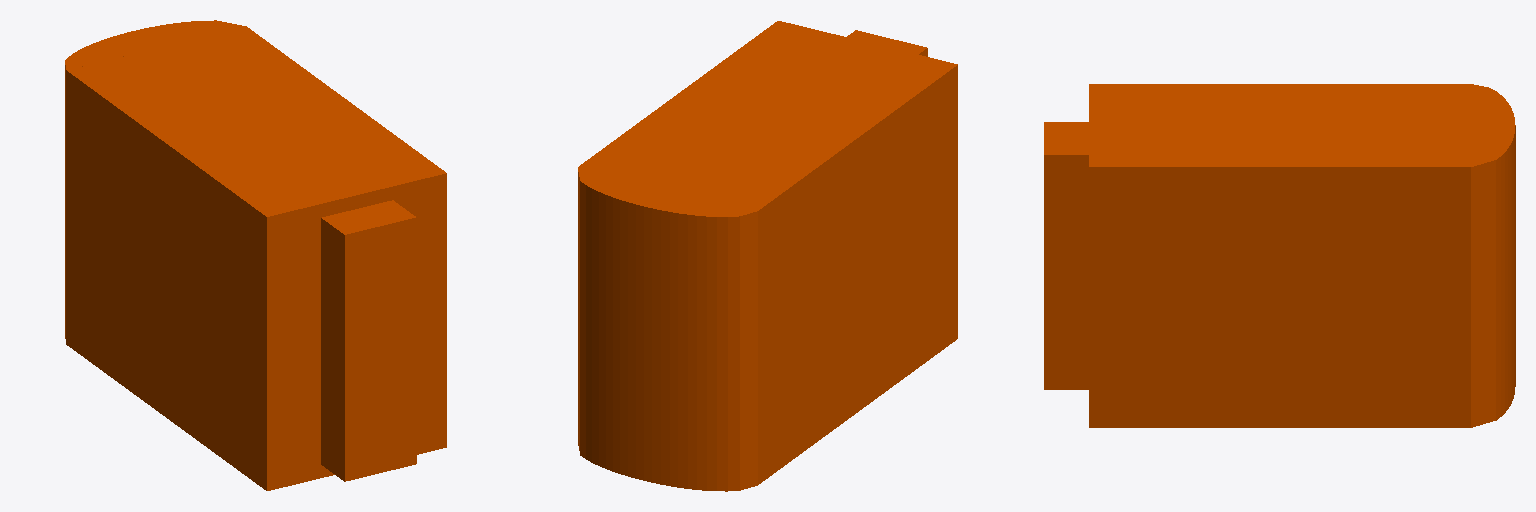
URDF robot description (3v3_45.0.27.5.27.5_42.5.32.5.25.0_1.0.975_53):
<?xml version="1.0" ?>
<robot name="3v3_45.0.27.5.27.5_42.5.32.5.25.0_1.0.975_53">

    <link name="palm">
        <visual>
            <origin rpy="0 0 0" xyz="0 0 0"/>
            <geometry>
                <mesh filename="obj_files/palm.obj" scale="1 1 1"/>
            </geometry>
        </visual>
        <collision>
            <geometry>
                <mesh filename="obj_files/palm_collision.obj" scale="1 1 1"/>
            </geometry>
        </collision>
    </link>

    <link name="finger0_segment0">
        <visual>
            <origin rpy="0 0 0" xyz="0 0 0"/>
            <geometry>
                <mesh filename="obj_files/finger0_segment0.obj" scale="1 1 1"/>
            </geometry>
        </visual>
        <collision>
            <geometry>
                <mesh filename="obj_files/finger0_segment0_collision.obj" scale="1 1 1"/>
            </geometry>
        </collision>
    </link>

    <joint name="finger0_segment0_joint" type="revolute">
        <parent link="palm"/>
        <child link="finger0_segment0"/>
        <origin rpy="0 0 0" xyz="0.0265 0 0.0"/>
        <axis xyz="0 0 1"/>
        <limit effort="1000.0" lower="-3.14" upper="3.14" velocity="0.5"/>
    </joint>

    <link name="finger0_segment1">
        <visual>
            <origin rpy="0 0 0" xyz="0 0 0"/>
            <geometry>
                <mesh filename="obj_files/finger0_segment1.obj" scale="1 1 1"/>
            </geometry>
        </visual>
        <collision>
            <geometry>
                <mesh filename="obj_files/finger0_segment1_collision.obj" scale="1 1 1"/>
            </geometry>
        </collision>
    </link>

    <joint name="finger0_segment1_joint" type="revolute">
        <parent link="finger0_segment0"/>
        <child link="finger0_segment1"/>
        <origin rpy="0 0 0" xyz="0 0.06397974683544302 0"/>
        <axis xyz="0 0 1"/>
        <limit effort="1000.0" lower="-3.14" upper="3.14" velocity="0.5"/>
    </joint>

    <link name="finger0_segment2">
        <visual>
            <origin rpy="0 0 0" xyz="0 0 0"/>
            <geometry>
                <mesh filename="obj_files/finger0_segment2.obj" scale="1 1 1"/>
            </geometry>
        </visual>
        <collision>
            <geometry>
                <mesh filename="obj_files/finger0_segment2_collision.obj" scale="1 1 1"/>
            </geometry>
        </collision>
    </link>

    <joint name="finger0_segment2_joint" type="revolute">
        <parent link="finger0_segment1"/>
        <child link="finger0_segment2"/>
        <origin rpy="0 0 0" xyz="0 0.03909873417721518 0"/>
        <axis xyz="0 0 1"/>
        <limit effort="1000.0" lower="-3.14" upper="3.14" velocity="0.5"/>
    </joint>

    <link name="finger1_segment0">
        <visual>
            <origin rpy="0 0 0" xyz="0 0 0"/>
            <geometry>
                <mesh filename="obj_files/finger1_segment0.obj" scale="1 1 1"/>
            </geometry>
        </visual>
        <collision>
            <geometry>
                <mesh filename="obj_files/finger1_segment0_collision.obj" scale="1 1 1"/>
            </geometry>
        </collision>
    </link>

    <joint name="finger1_segment0_joint" type="revolute">
        <parent link="palm"/>
        <child link="finger1_segment0"/>
        <origin rpy="0 0 0" xyz="-0.0265 0 3.2453140177404857e-18"/>
        <axis xyz="0 0 1"/>
        <limit effort="1000.0" lower="-3.14" upper="3.14" velocity="0.5"/>
    </joint>

    <link name="finger1_segment1">
        <visual>
            <origin rpy="0 0 0" xyz="0 0 0"/>
            <geometry>
                <mesh filename="obj_files/finger1_segment1.obj" scale="1 1 1"/>
            </geometry>
        </visual>
        <collision>
            <geometry>
                <mesh filename="obj_files/finger1_segment1_collision.obj" scale="1 1 1"/>
            </geometry>
        </collision>
    </link>

    <joint name="finger1_segment1_joint" type="revolute">
        <parent link="finger1_segment0"/>
        <child link="finger1_segment1"/>
        <origin rpy="0 0 0" xyz="0 0.061974683544303785 0"/>
        <axis xyz="0 0 1"/>
        <limit effort="1000.0" lower="-3.14" upper="3.14" velocity="0.5"/>
    </joint>

    <link name="finger1_segment2">
        <visual>
            <origin rpy="0 0 0" xyz="0 0 0"/>
            <geometry>
                <mesh filename="obj_files/finger1_segment2.obj" scale="1 1 1"/>
            </geometry>
        </visual>
        <collision>
            <geometry>
                <mesh filename="obj_files/finger1_segment2_collision.obj" scale="1 1 1"/>
            </geometry>
        </collision>
    </link>

    <joint name="finger1_segment2_joint" type="revolute">
        <parent link="finger1_segment1"/>
        <child link="finger1_segment2"/>
        <origin rpy="0 0 0" xyz="0 0.047392405063291135 0"/>
        <axis xyz="0 0 1"/>
        <limit effort="1000.0" lower="-3.14" upper="3.14" velocity="0.5"/>
    </joint>

</robot>

--- What the picture shows (computed from the rendered views, not written in the file) ---
3 views of the same robot in one strip: view 1: azimuth 30°, elevation 25°; view 2: azimuth 150°, elevation 25°; view 3: azimuth 270°, elevation 25° (orthographic).
Robot: 3v3_45.0.27.5.27.5_42.5.32.5.25.0_1.0.975_53 — 7 links, 6 joints (6 revolute); root link palm; default pose: every joint at zero.
Links seen in each view (by area): view 1: finger1_segment1; view 2: finger1_segment1; view 3: finger1_segment1.
Boxes of the visible links, x1=… form: finger1_segment1: x1=65, y1=20, x2=446, y2=490; finger1_segment1: x1=578, y1=21, x2=957, y2=491; finger1_segment1: x1=1044, y1=84, x2=1515, y2=427.
Bounding box of the posed robot: 0.022 × 0.0524 × 0.032 m (x, y, z).
1 mesh visuals loaded from 7 distinct referenced files (1 OBJ); not drawn: 6 (reference not matched to a file when rendering).